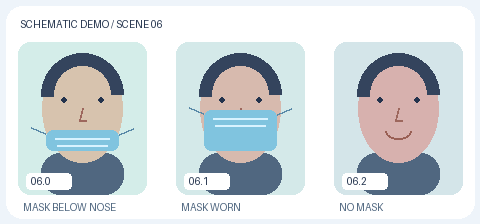mask_weared_incorrect: (18, 42, 146, 194)
with_mask: (176, 42, 304, 194)
without_mask: (334, 42, 462, 194)
